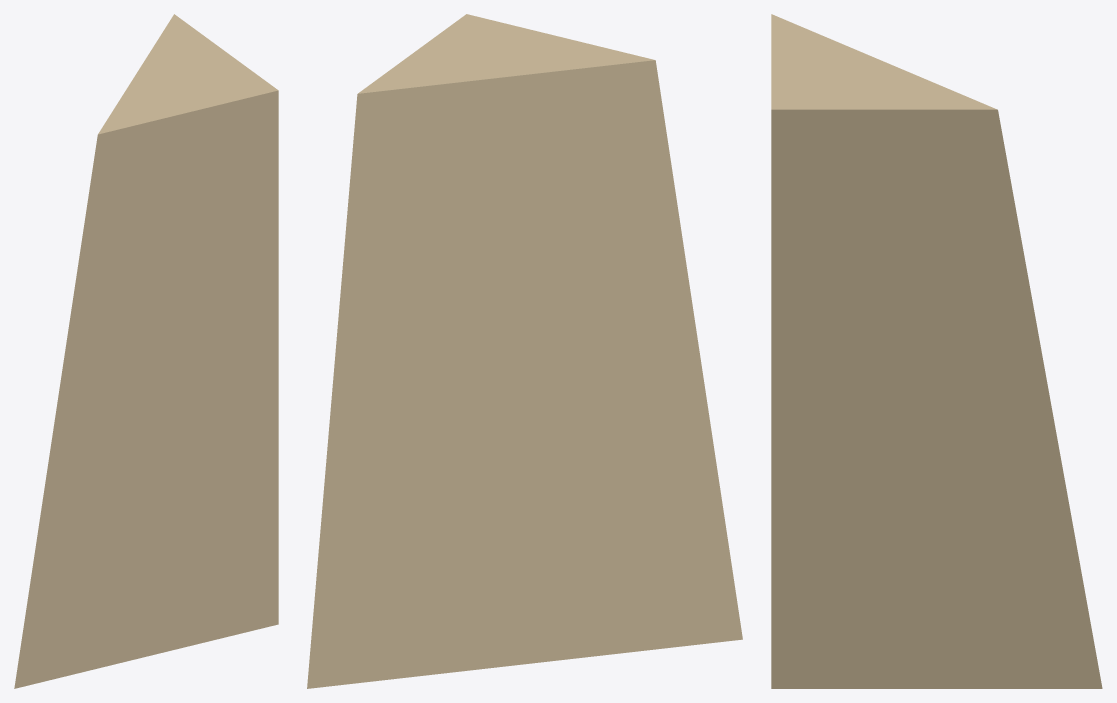
The model's file is naturePack_123.gltf.
The picture shows the model from 3 angles, left to right: view 1: azimuth 30°, elevation 25°; view 2: azimuth 150°, elevation 25°; view 3: azimuth 270°, elevation 25°; orthographic projection. The views are drawn at different scales.
Visible parts, largest first — view 1: Mesh1 Brown_Cliff_Bottom_Corner Model; view 2: Mesh1 Brown_Cliff_Bottom_Corner Model; view 3: Mesh1 Brown_Cliff_Bottom_Corner Model.
Part boxes in pixels (x1=…): Mesh1 Brown_Cliff_Bottom_Corner Model: x1=14, y1=14, x2=278, y2=688; Mesh1 Brown_Cliff_Bottom_Corner Model: x1=307, y1=14, x2=742, y2=688; Mesh1 Brown_Cliff_Bottom_Corner Model: x1=771, y1=14, x2=1102, y2=688.
Size of the model in its own units: 1.14 by 2.2 by 1.14.
